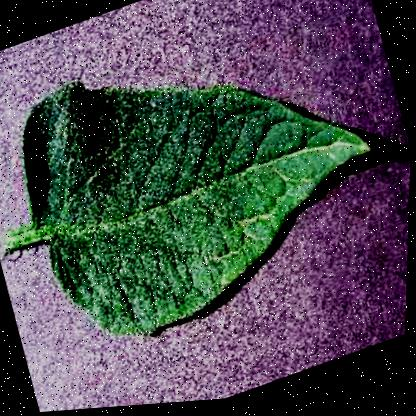Healthy: (0, 0, 410, 383)
